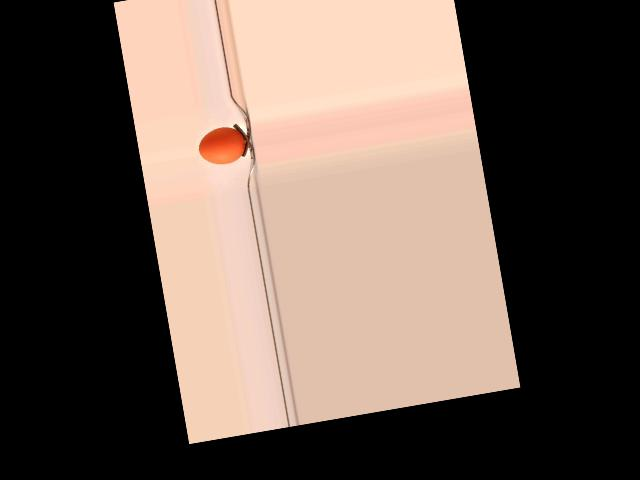egg: (196, 124, 248, 168)
